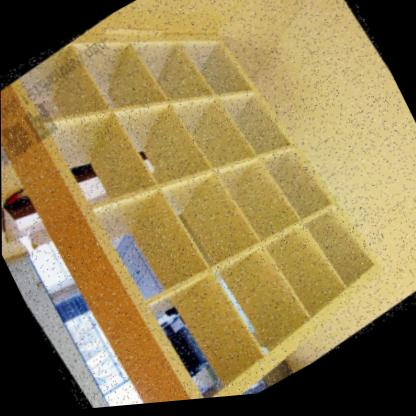Shelf: (0, 0, 411, 416)
